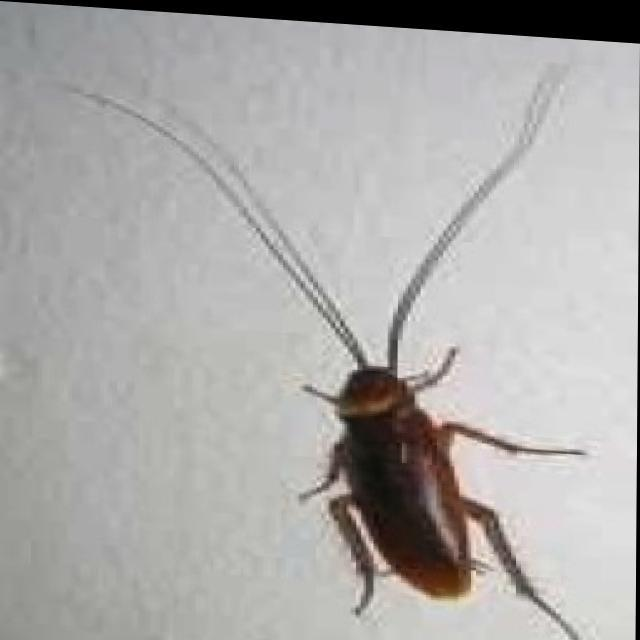cockroach: (307, 332, 535, 622)
